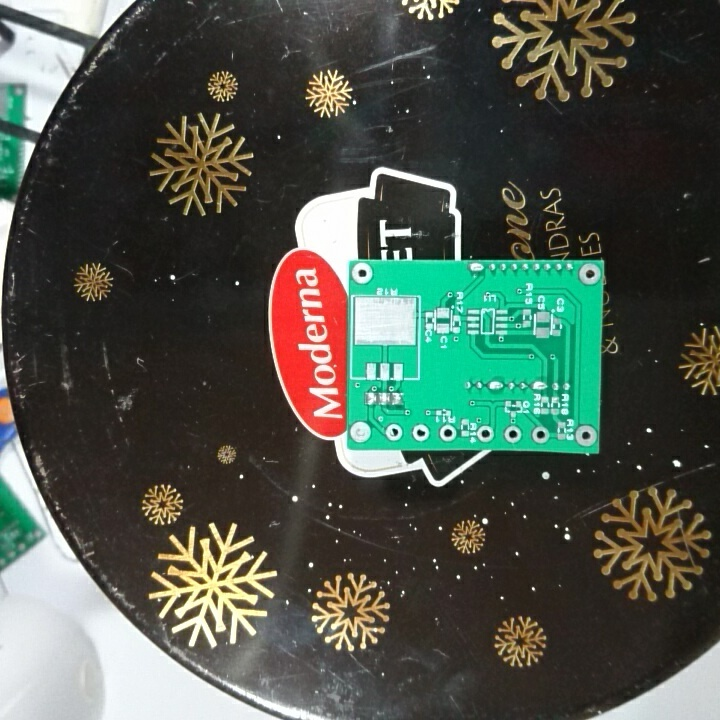F: (351, 260, 374, 289), (577, 260, 601, 286), (574, 423, 597, 448), (349, 419, 372, 443), (384, 421, 404, 443), (409, 423, 431, 443), (531, 424, 550, 445), (438, 422, 457, 442), (477, 423, 495, 444), (504, 424, 522, 445)
P: (466, 260, 485, 276), (530, 378, 547, 395), (486, 378, 505, 392)
